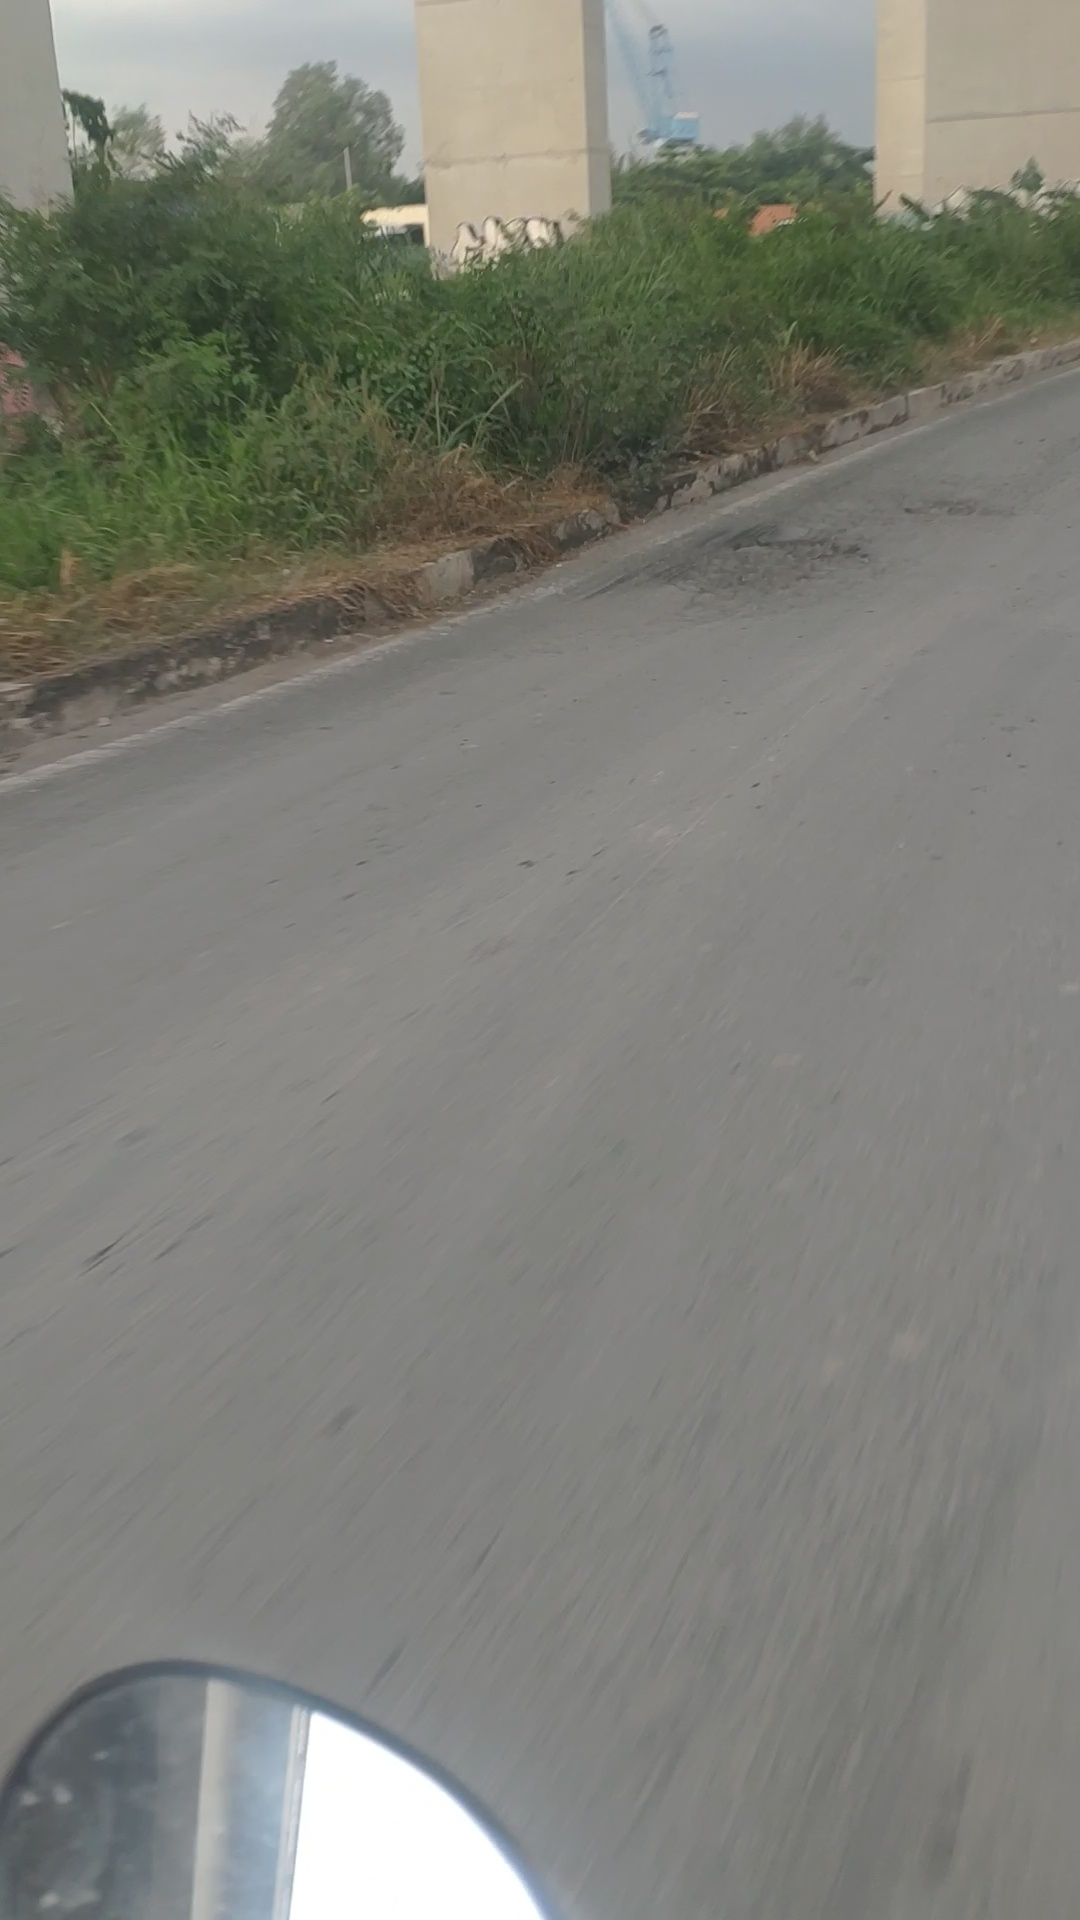hole: (576, 513, 886, 634), (901, 480, 1019, 533)
